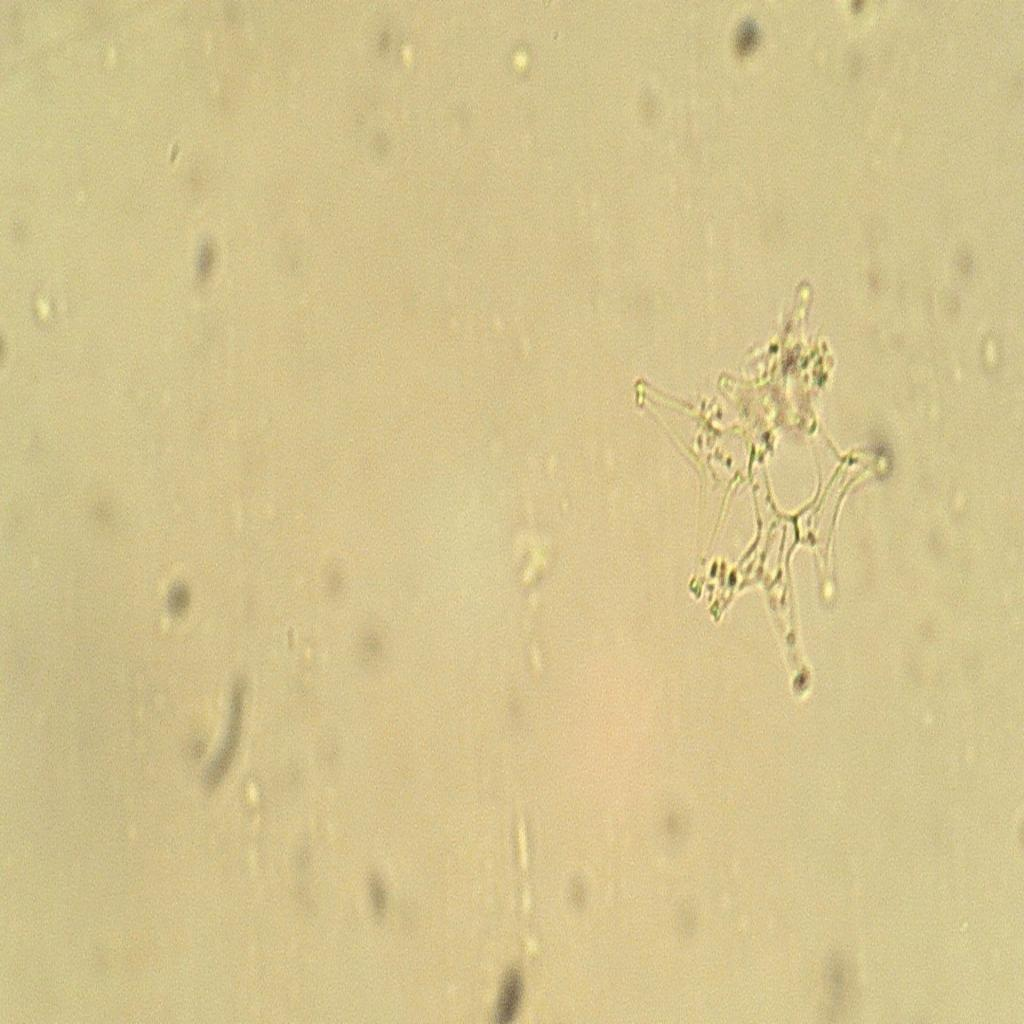Pediastrum_1F0: (610, 258, 917, 727)
